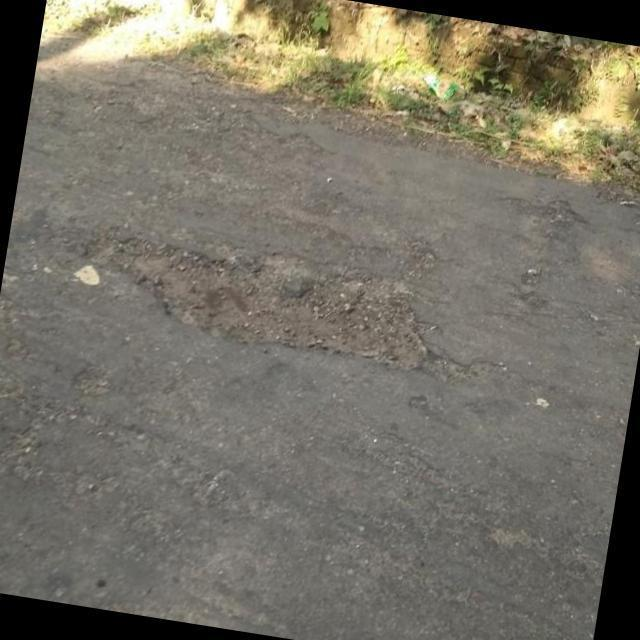Pothole: (86, 237, 475, 383)
